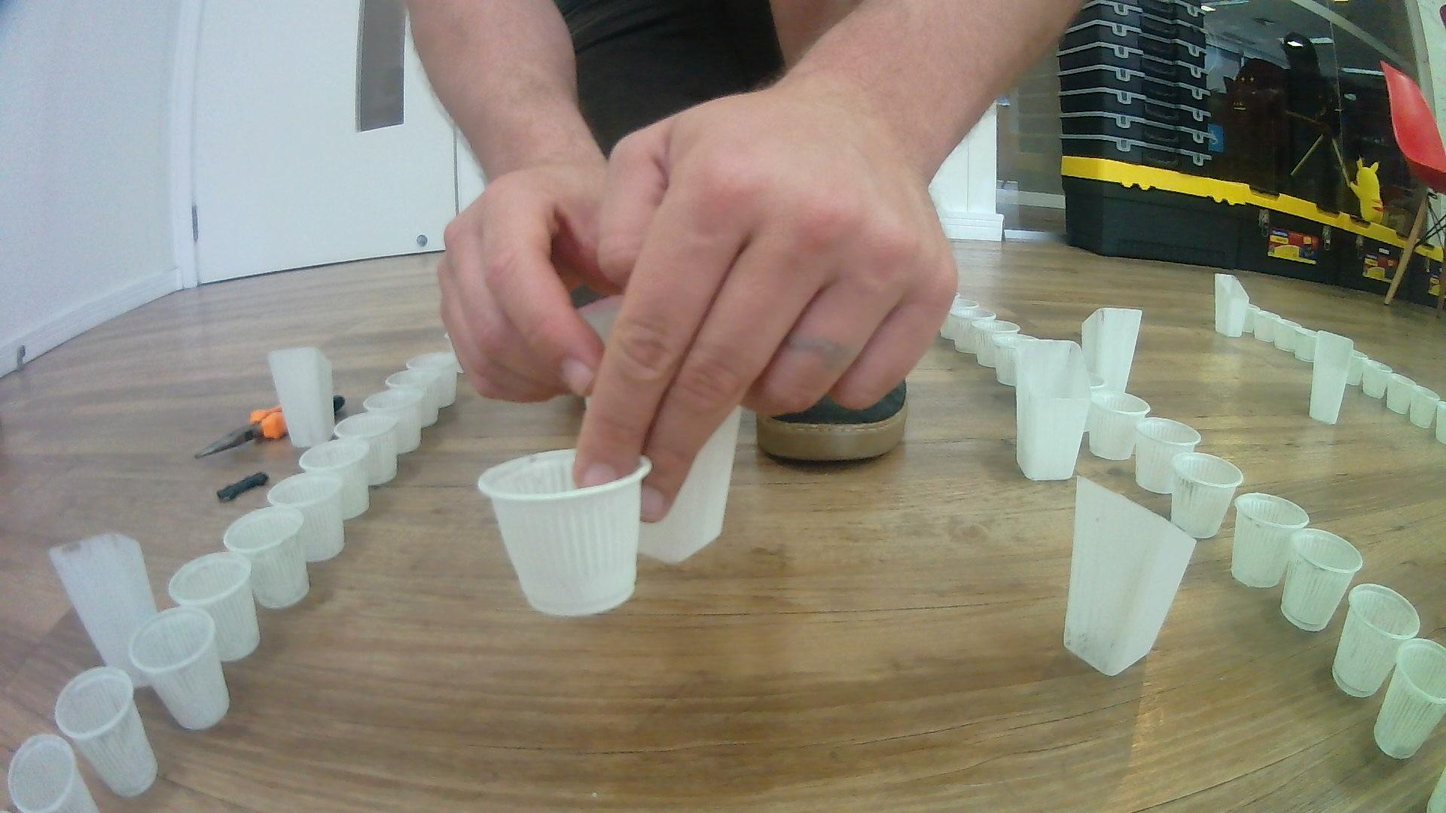erva_daninha: (569, 294, 740, 567), (1062, 473, 1198, 678), (48, 531, 161, 690), (1014, 336, 1094, 482), (268, 346, 338, 450), (1082, 307, 1143, 399), (1308, 330, 1356, 426), (1213, 273, 1249, 339)
planta: (477, 447, 651, 619), (53, 665, 161, 799), (127, 605, 233, 732), (166, 550, 261, 665), (1331, 583, 1421, 699), (221, 506, 311, 611), (1372, 636, 1446, 760), (1280, 527, 1365, 633), (1230, 491, 1310, 589), (7, 732, 102, 813), (266, 472, 346, 563), (1169, 451, 1246, 540), (298, 437, 372, 522), (1131, 416, 1203, 495), (333, 411, 398, 486), (1088, 392, 1152, 461), (362, 389, 421, 454), (385, 367, 440, 428), (407, 352, 458, 410), (970, 319, 1020, 368), (953, 309, 997, 354), (993, 334, 1029, 387), (939, 297, 981, 341), (1408, 385, 1442, 430), (1362, 359, 1393, 400), (1385, 373, 1414, 415), (1293, 327, 1324, 363), (1272, 318, 1300, 352), (1252, 309, 1278, 343), (1348, 350, 1367, 388), (1435, 401, 1446, 445)
